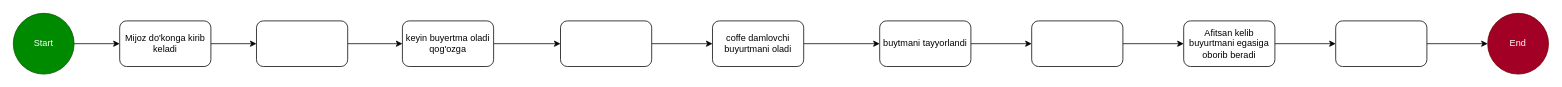
Image size: 1562x87. Some labels were removed from this diagram. Each missing label, with the box of its shape:
afitsan uni kutib oladi va bosh stolga o'tqizadi: (256, 20, 348, 66)
Afitsanni o'g'zaki chaqirib ogohlantiradi: (1031, 20, 1123, 66)
buyurtma oshxonaga yuboriladi: (560, 20, 652, 66)
tolov amalga oshiriladi: (1335, 20, 1427, 66)
